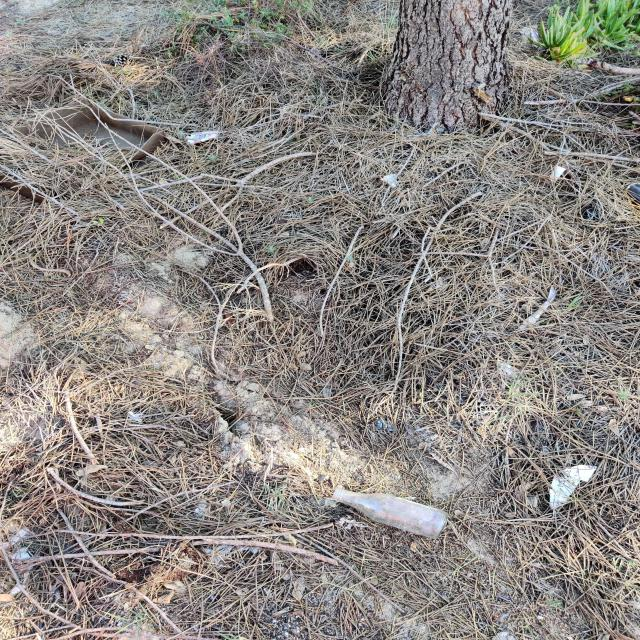litter: (332, 486, 447, 538), (549, 465, 597, 509), (189, 132, 217, 143), (549, 165, 567, 180), (380, 173, 396, 186)
